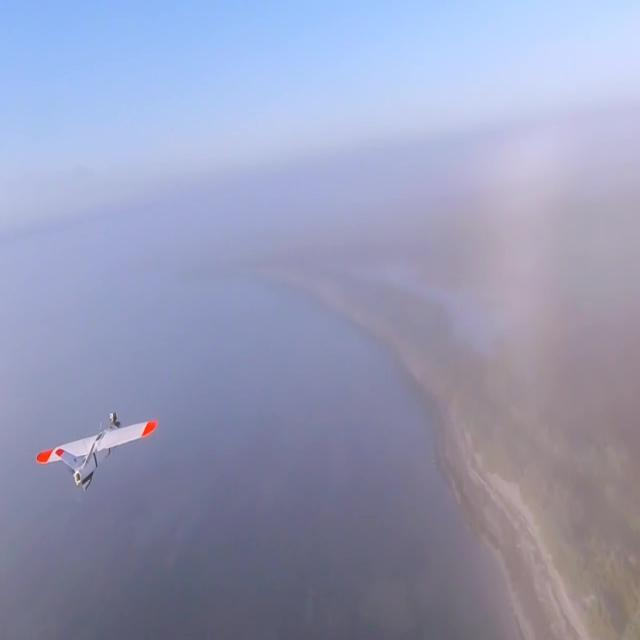iha: (4, 442, 63, 460)
